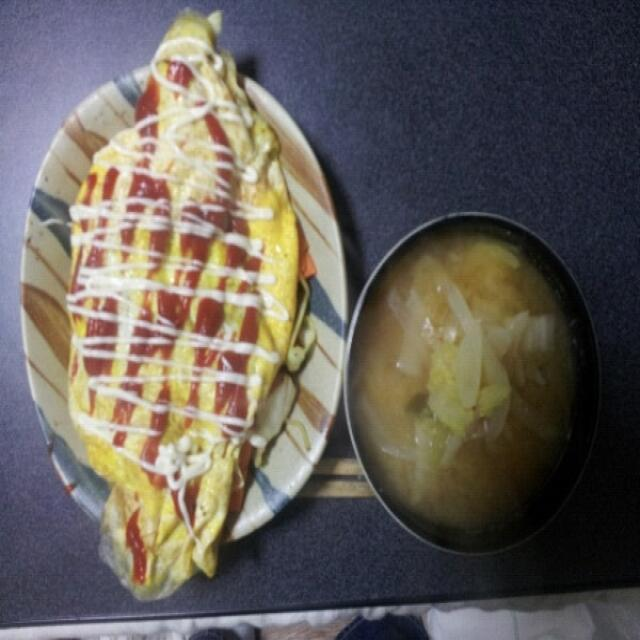Omelet: (59, 4, 314, 584)
